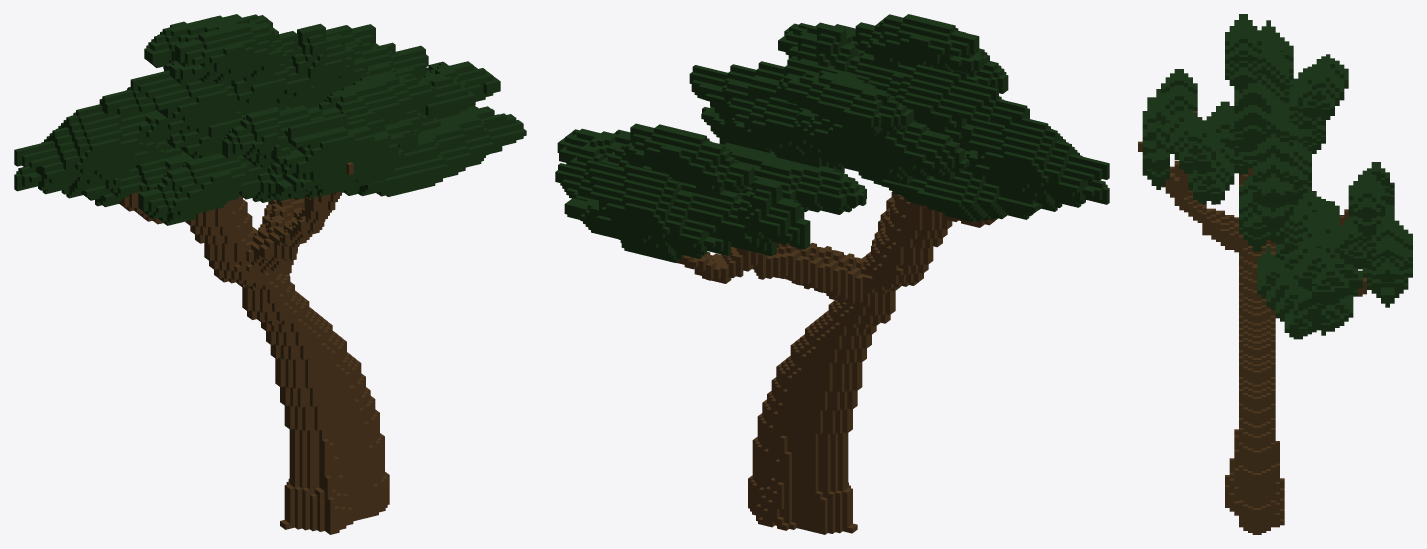
Rendered from Korean_tree_01.FBX.
The picture shows the model from 3 angles, left to right: view 1: azimuth 30°, elevation 25°; view 2: azimuth 150°, elevation 25°; view 3: azimuth 270°, elevation 25°; orthographic projection. The views are drawn at different scales.
Parts seen in each view (by area): view 1: Voxel_Korean_traditional village-25; view 2: Voxel_Korean_traditional village-25; view 3: Voxel_Korean_traditional village-25.
Boxes of the visible parts, x1,y1,x2,y2 form: Voxel_Korean_traditional village-25: (14,14,526,534); Voxel_Korean_traditional village-25: (555,14,1109,534); Voxel_Korean_traditional village-25: (1138,14,1412,534).
Size of the model in its own units: 110 by 105 by 59.99.
1 material, 1 textured.
